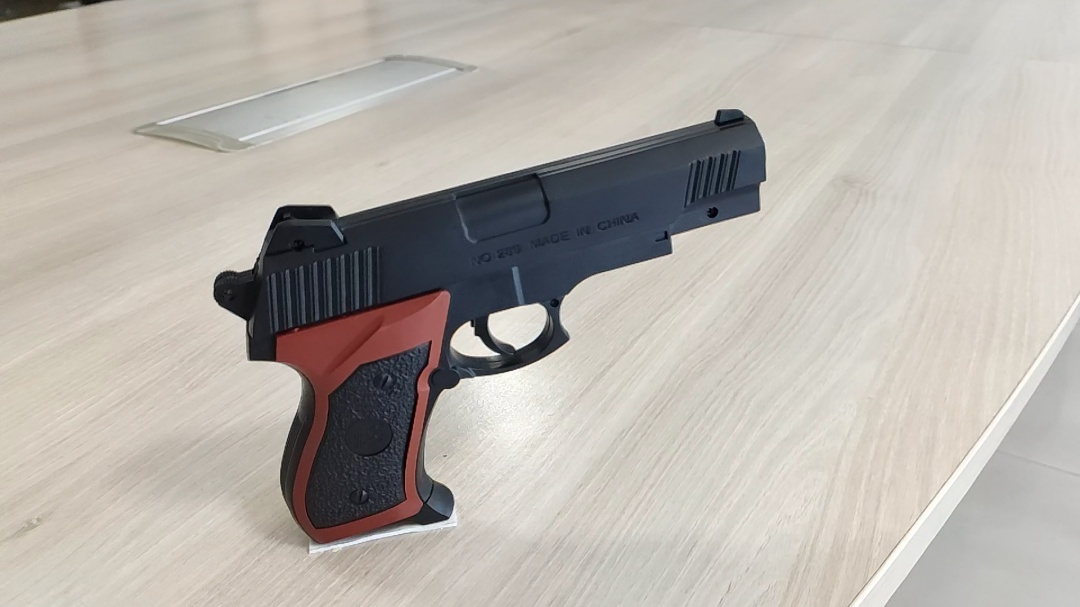gun: (221, 160, 624, 442)
